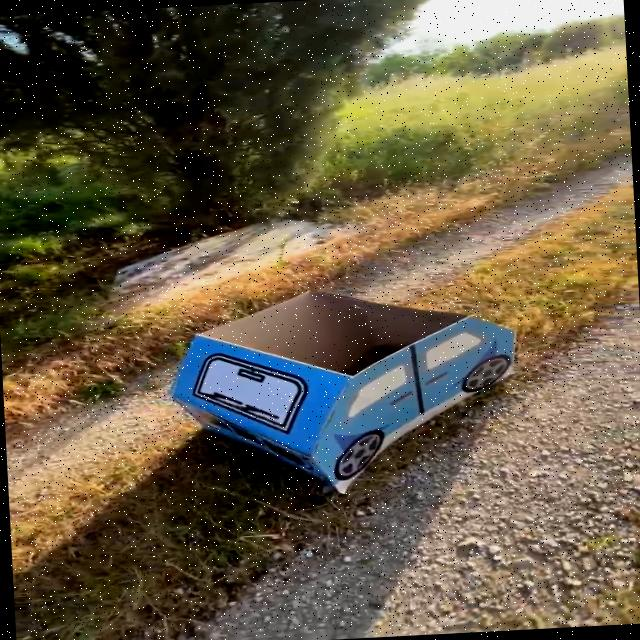blue_car: (94, 265, 547, 516)
